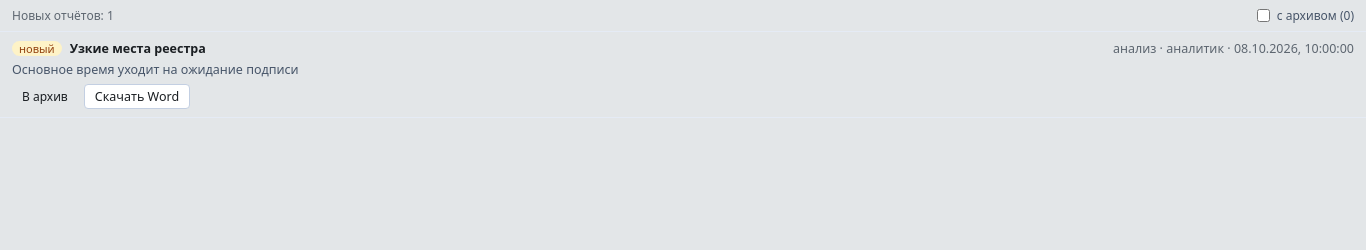
отчёты агентов: вкладка › новый отчёт: краткое содержание видно сразу, выводы и текст — по щелчку, который отмечает отчёт прочитанным
The width and height of the screenshot is (1366, 250).
Expected: the text "Основное время уходит на ожидание подписи" is shown, [12, 61, 299, 78]
Expected: the text "Подробный текст отчёта" is not shown
Click the text "Узкие места реестра".
click(138, 48)  # box [70, 40, 206, 57]
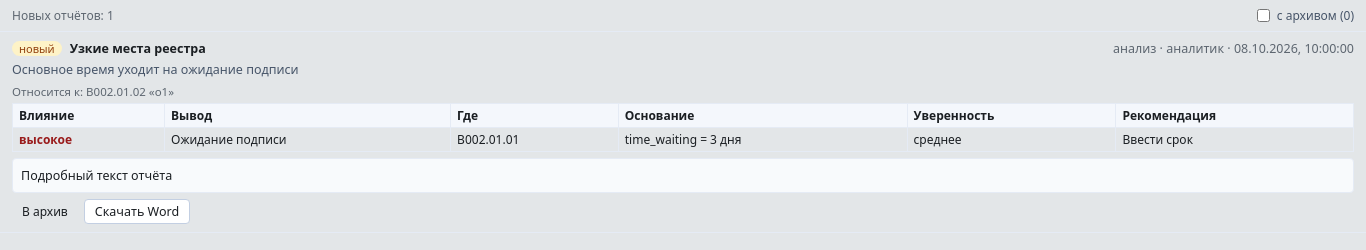
Expected: the text "Подробный текст отчёта" is shown, [12, 158, 1354, 193]
Expected: the text "Относится к: B002.01.02 «o1»" is shown, [12, 84, 174, 99]
# повторный щелчок сворачивает
Click the text "Узкие места реестра".
click(138, 48)  # box [70, 40, 206, 57]
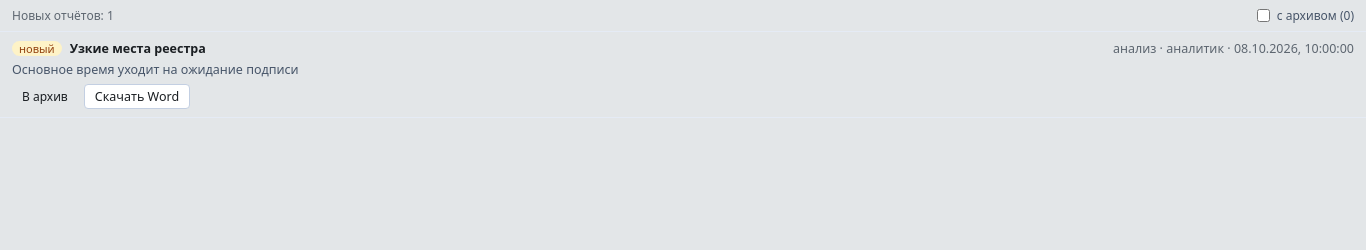
Expected: the text "Подробный текст отчёта" is gone
